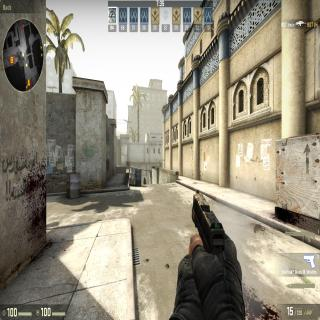CT-Body: (142, 176, 146, 184), (159, 159, 161, 169)
CT-Head: (144, 176, 145, 180), (159, 160, 160, 162)
